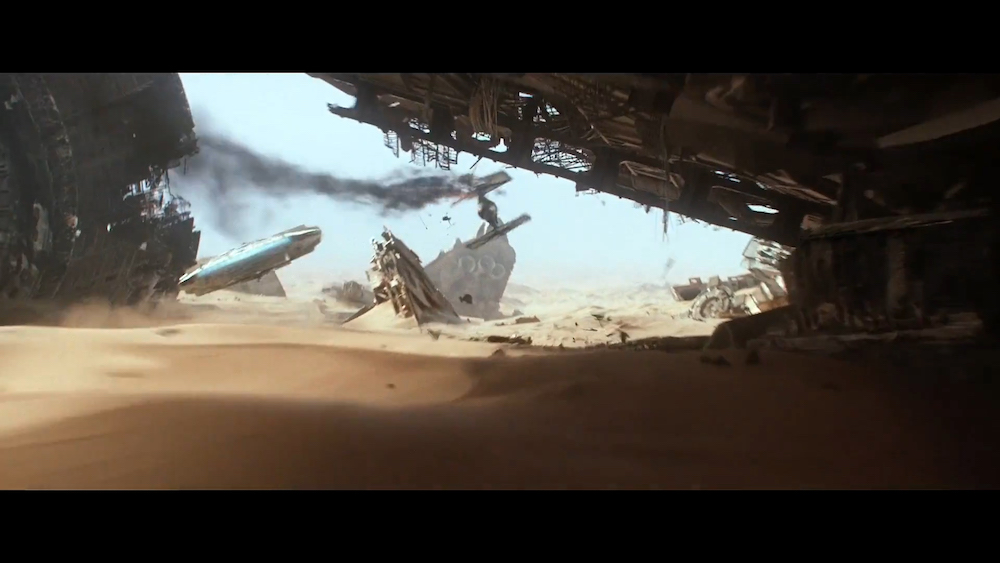Millennium Falcon: (177, 223, 327, 300)
Tie Fighter: (442, 171, 535, 252)
